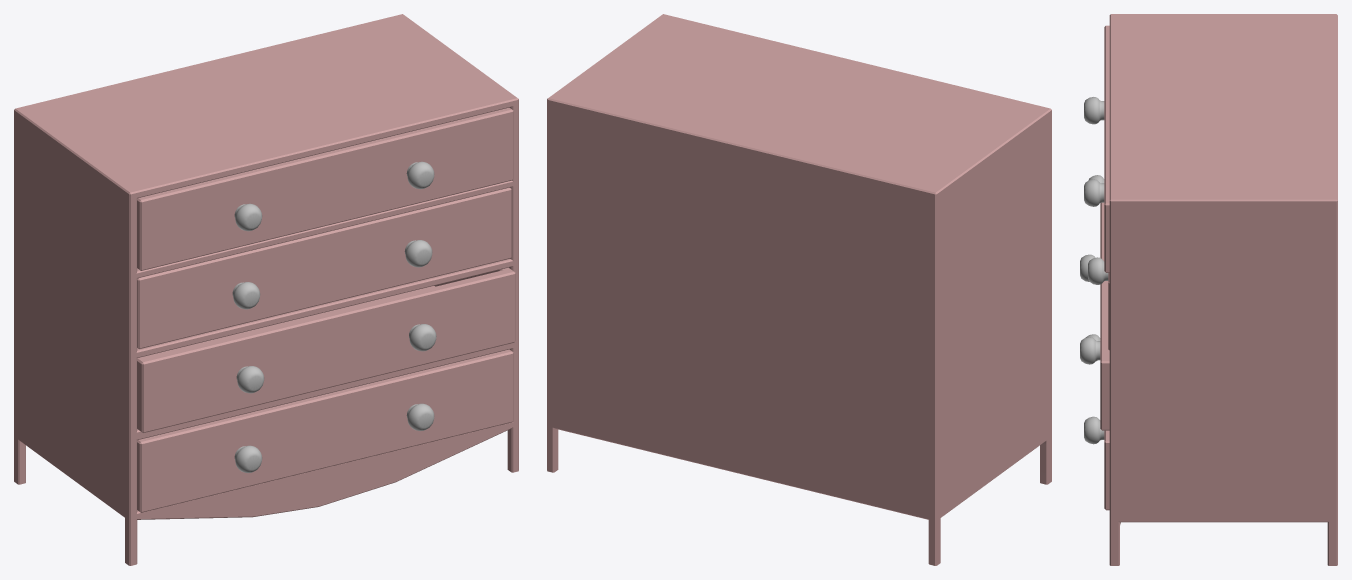
File: Baby_Drawers.fbx
The picture shows the model from 3 angles, left to right: view 1: azimuth 30°, elevation 25°; view 2: azimuth 150°, elevation 25°; view 3: azimuth 270°, elevation 25°; orthographic projection.
Parts seen in each view (by area): view 1: Baby_Drawers, Baby_Drawers_Draw_3, Baby_Drawers_Draw_4, Baby_Drawers_Draw_1, Baby_Drawers_Draw_2; view 2: Baby_Drawers; view 3: Baby_Drawers, Baby_Drawers_Draw_1, Baby_Drawers_Draw_3, Baby_Drawers_Draw_4, Baby_Drawers_Draw_2.
Part boxes in pixels (x1,y1,x2,y2): Baby_Drawers: (14, 14, 518, 565); Baby_Drawers_Draw_3: (137, 267, 515, 432); Baby_Drawers_Draw_4: (137, 349, 513, 512); Baby_Drawers_Draw_1: (137, 107, 513, 270); Baby_Drawers_Draw_2: (137, 187, 511, 348); Baby_Drawers: (547, 14, 1051, 565); Baby_Drawers: (1109, 14, 1337, 565); Baby_Drawers_Draw_1: (1084, 25, 1109, 272); Baby_Drawers_Draw_3: (1080, 202, 1109, 430); Baby_Drawers_Draw_4: (1084, 334, 1109, 510); Baby_Drawers_Draw_2: (1088, 175, 1109, 350).
Bounding box in the file's own units: 91 × 83.15 × 53.09.
